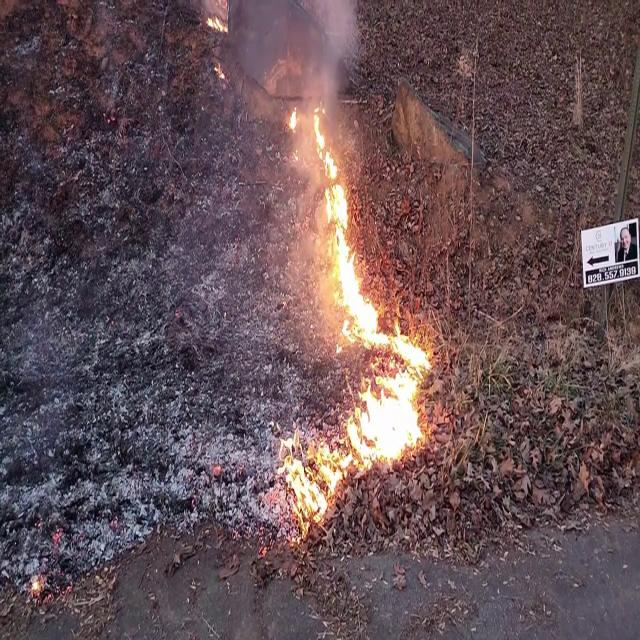Fire: (280, 102, 440, 520)
Smoke: (244, 0, 360, 127)
